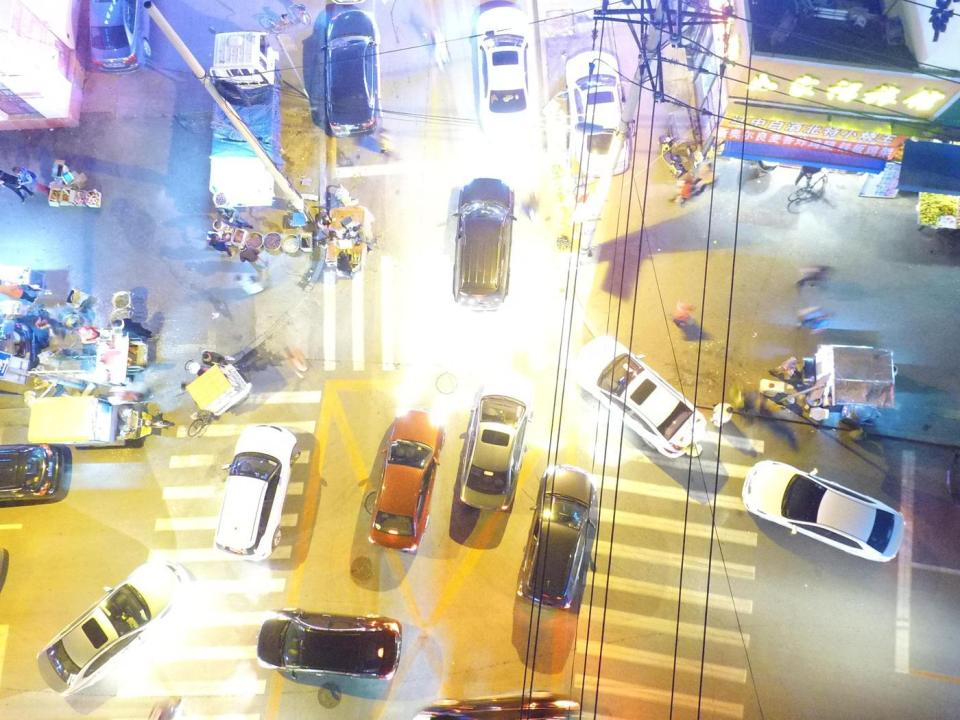car: (36, 557, 191, 696), (741, 459, 905, 563), (570, 335, 707, 458), (214, 422, 301, 562), (367, 406, 446, 555), (256, 606, 402, 684), (516, 463, 594, 609), (459, 370, 531, 513), (452, 177, 515, 311), (564, 49, 629, 177), (475, 6, 536, 138), (324, 9, 384, 138), (411, 688, 582, 720), (0, 442, 73, 506)
truck: (208, 30, 280, 198)
van: (88, 1, 152, 75)
